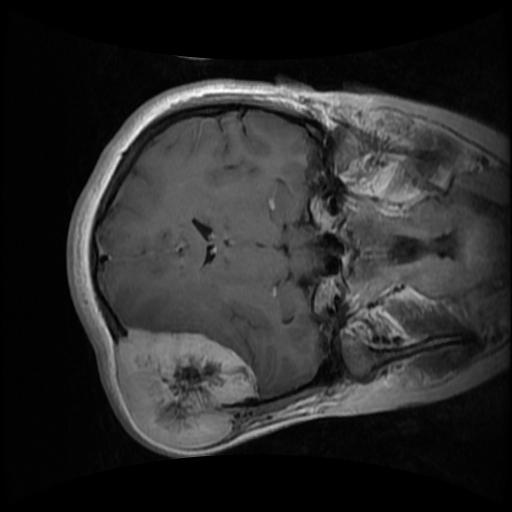meningioma: (115, 329, 259, 446)
